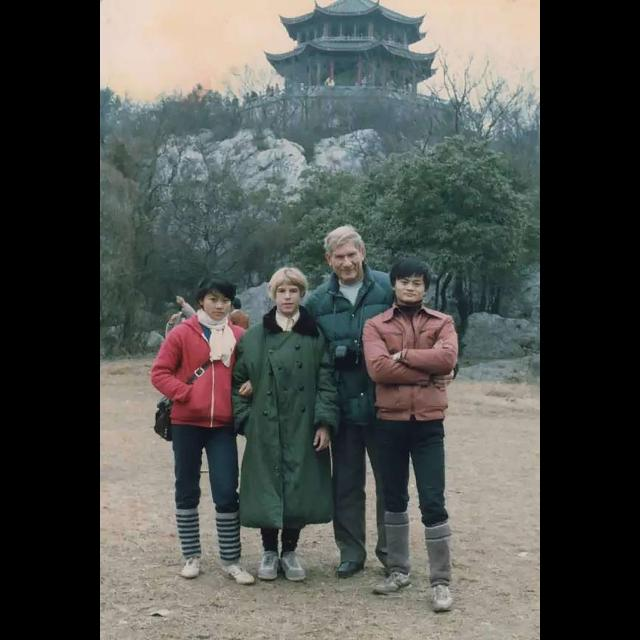head: (324, 226, 366, 284), (391, 258, 432, 304), (198, 278, 236, 320), (274, 269, 304, 315), (179, 312, 193, 330), (229, 298, 241, 312)
person: (282, 223, 460, 584), (362, 254, 461, 614), (150, 269, 262, 586), (230, 264, 340, 584), (162, 292, 202, 408), (223, 296, 254, 388)
